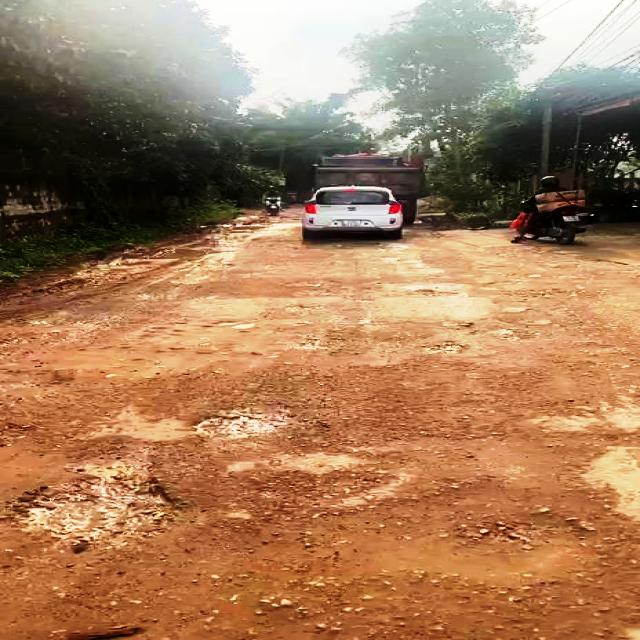pothole: (337, 487, 593, 589), (0, 462, 183, 551), (390, 426, 603, 492), (193, 404, 308, 442), (418, 340, 470, 356), (490, 323, 530, 342), (214, 318, 268, 332)
